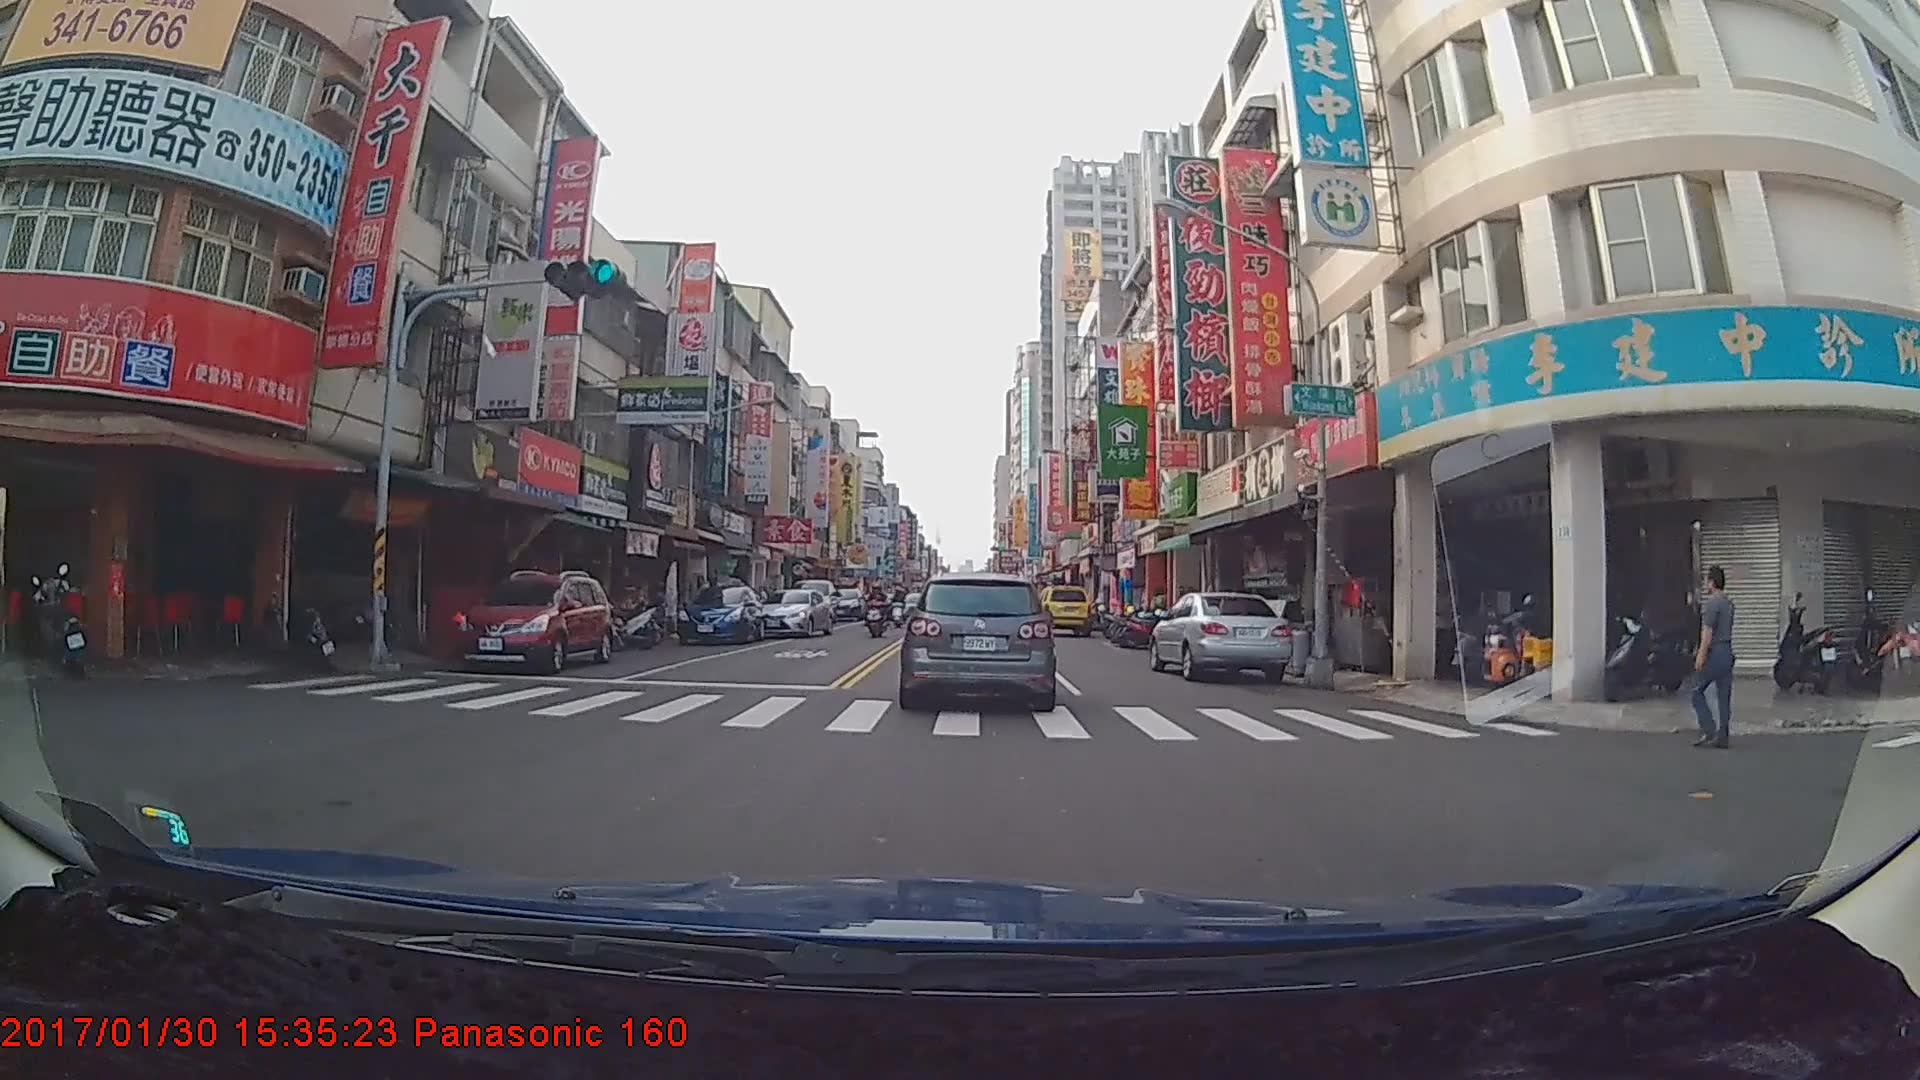pedestrian: (1694, 565, 1745, 755)
rider: (868, 581, 893, 637)
vehicle: (896, 572, 1056, 711), (456, 565, 614, 672), (1149, 590, 1295, 684), (675, 584, 764, 644), (754, 586, 833, 639), (1038, 584, 1092, 634)
